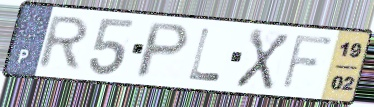5: (87, 17, 137, 77)
F: (279, 32, 336, 92)
L: (186, 26, 224, 83)
P: (132, 21, 193, 80)
R: (34, 14, 92, 72)
X: (232, 26, 292, 92)
